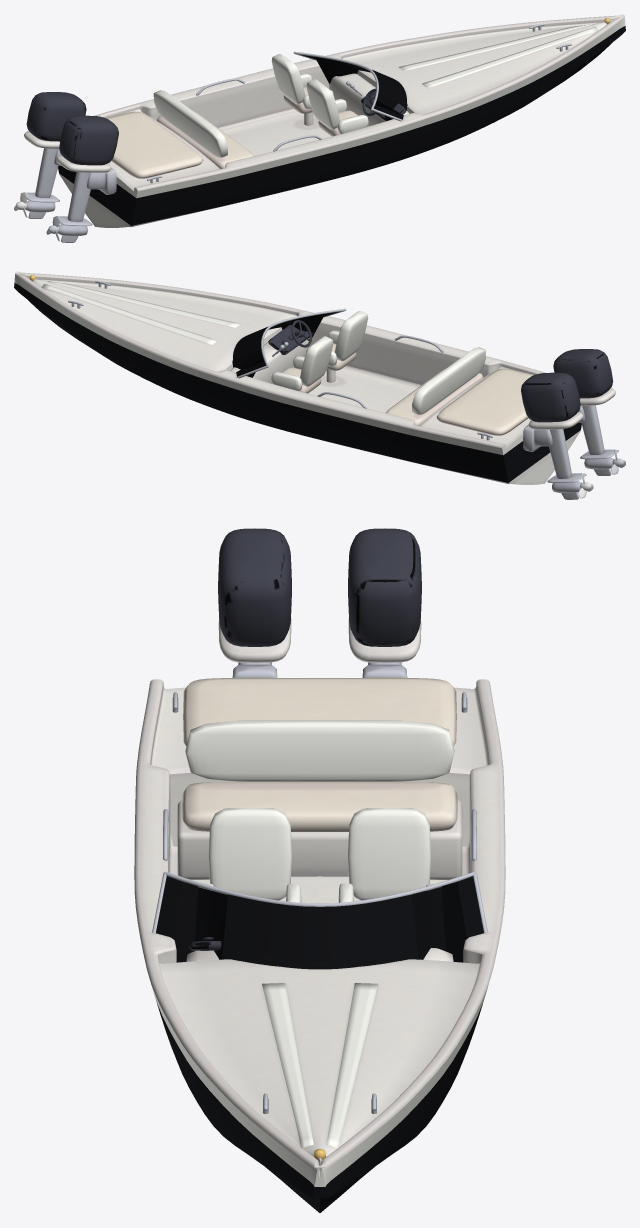
The model's file is lancha-focker-255-gto-2024.glb.
3 views of the same model, one above another, from view 1: azimuth 30°, elevation 25°; view 2: azimuth 150°, elevation 25°; view 3: azimuth 270°, elevation 25° (orthographic). The views are drawn at different scales.
Visible parts, largest first — view 1: speedboat_body; view 2: speedboat_body; view 3: speedboat_body.
Part boxes in pixels (x1=…): speedboat_body: x1=21, y1=14, x2=625, y2=242; speedboat_body: x1=14, y1=271, x2=618, y2=499; speedboat_body: x1=134, y1=528, x2=505, y2=1212.
Bounding box in the file's own units: 7.77 × 1.63 × 2.11.
3 materials, 1 textured.
